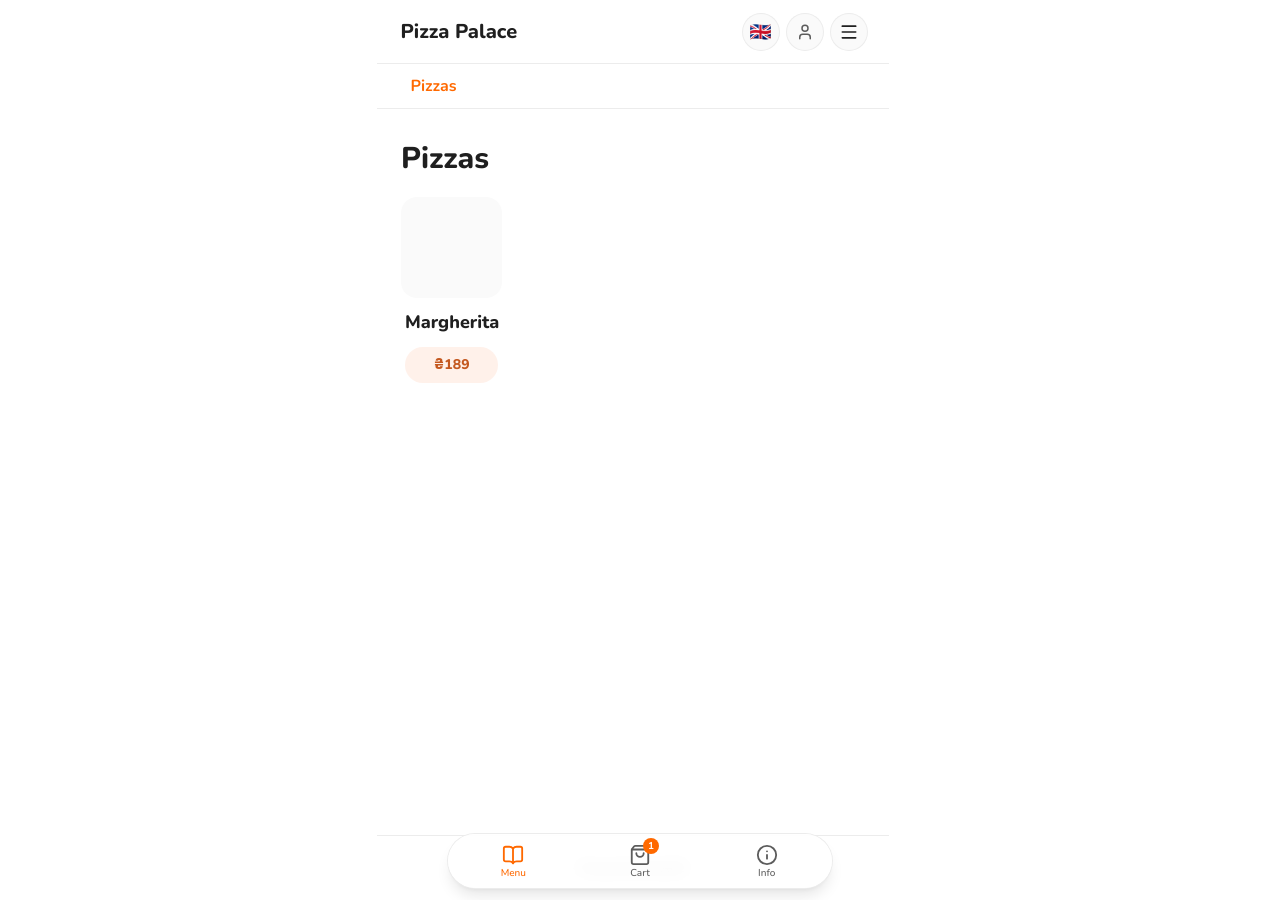
it: ordering without a table › asks for the code first, then carries the guest on to checkout
Check: the footer is shown, box top-left (376, 835), bottom-right (888, 899)
What coordinates should you click on to do the following:
click the button "1 Cart"
I would click on:
 (640, 861)
Its box is top-left (579, 838), bottom-right (701, 884).
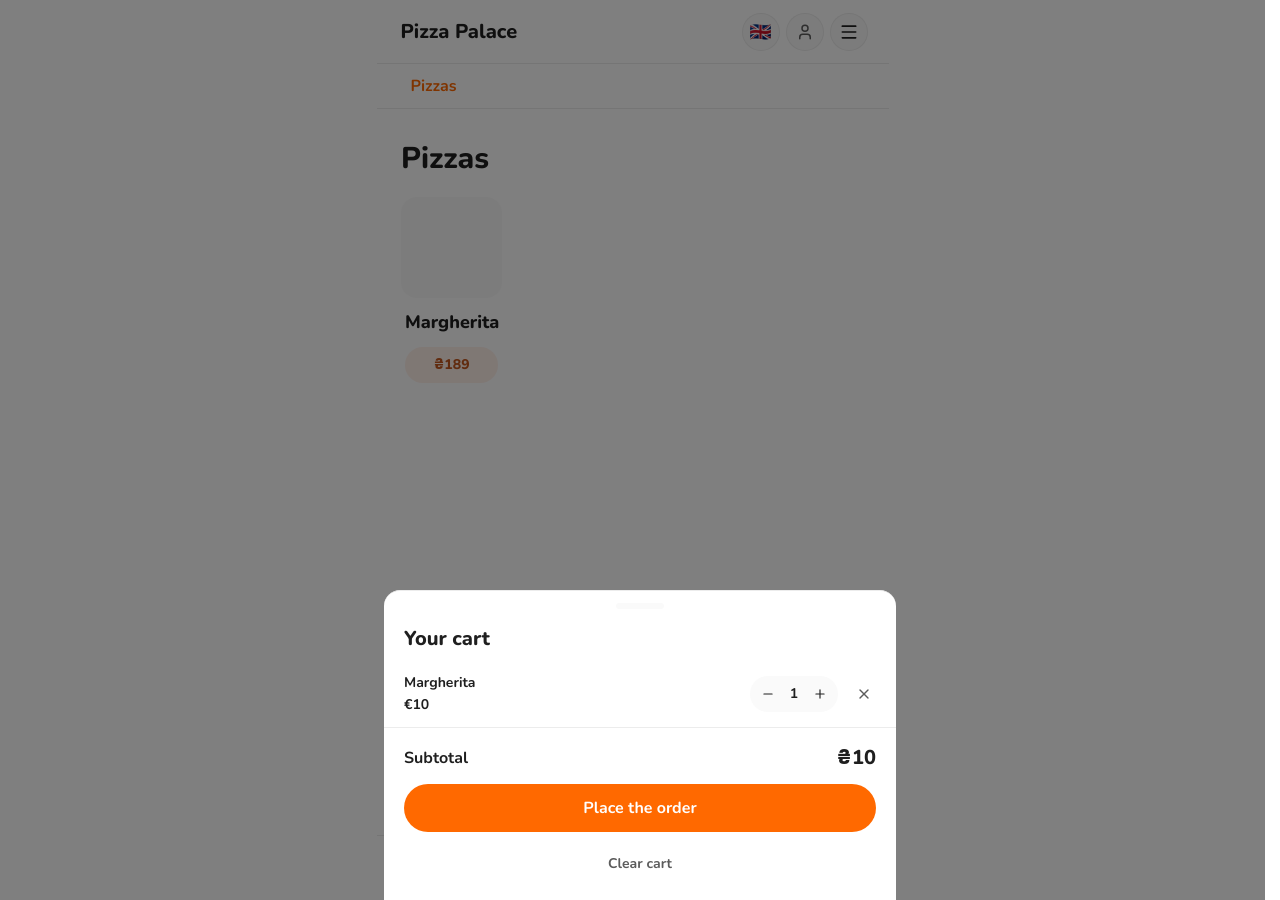
What coordinates should you click on to do the following:
click the button "Place the order"
I would click on:
 (640, 808)
Its box is top-left (404, 784), bottom-right (876, 832).
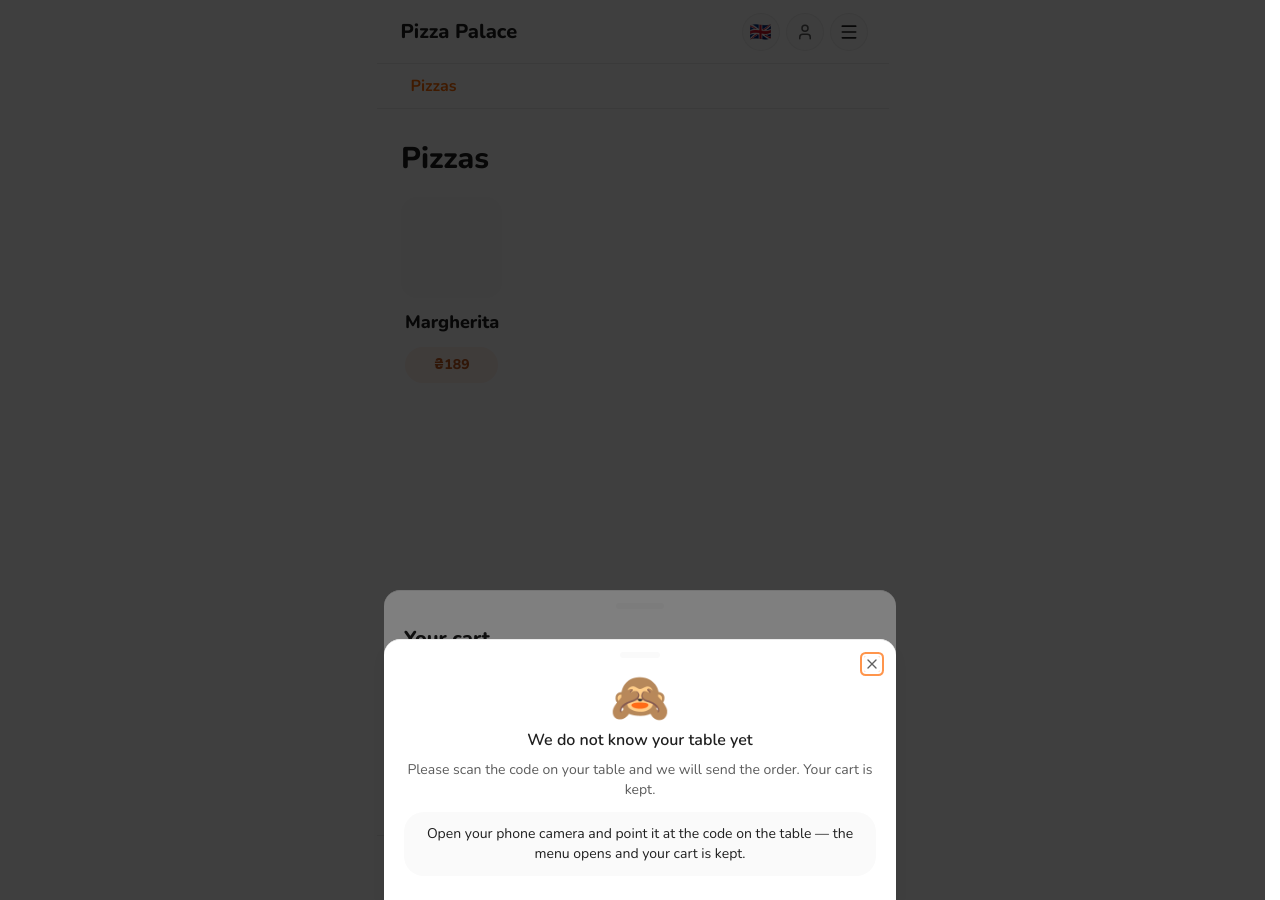
Check: the heading "We do not know your table yet" is shown, box top-left (527, 728), bottom-right (753, 752)
